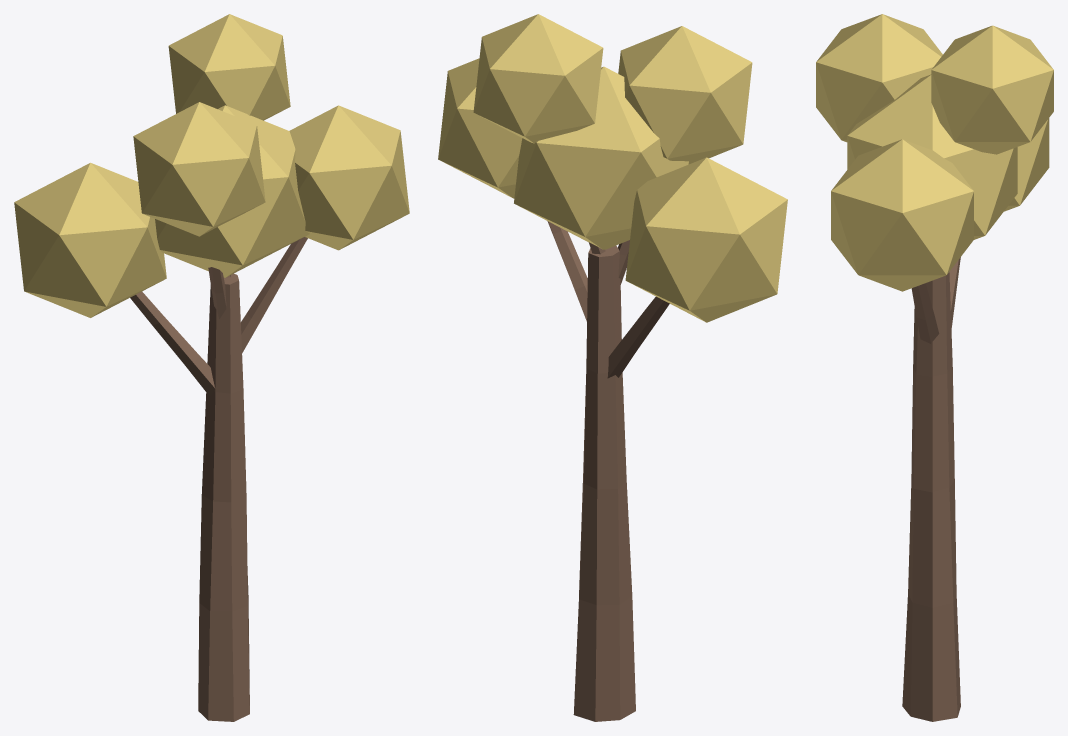
Rendered from 09_GoldenTree_Sacred.glb.
3 renders of one model, left to right at view 1: azimuth 30°, elevation 25°; view 2: azimuth 150°, elevation 25°; view 3: azimuth 270°, elevation 25°, orthographic. The views are drawn at different scales.
Visible parts, largest first — view 1: GoldenTree_Trunk, GoldenTree_Foliage1, GoldenTree_Foliage3, GoldenTree_Foliage2, GoldenTree_Foliage4, GoldenTree_FoliageTop, GoldenTree_Branch1, GoldenTree_Branch2, GoldenTree_Branch3; view 2: GoldenTree_Trunk, GoldenTree_Foliage1, GoldenTree_FoliageTop, GoldenTree_Foliage3, GoldenTree_Foliage4, GoldenTree_Foliage2, GoldenTree_Branch1, GoldenTree_Branch2; view 3: GoldenTree_Trunk, GoldenTree_Foliage2, GoldenTree_Foliage4, GoldenTree_Foliage3, GoldenTree_FoliageTop, GoldenTree_Foliage1, GoldenTree_Branch2, GoldenTree_Branch1.
Boxes of the visible parts, x1,y1,x2,y2 form: GoldenTree_Trunk: (198,273,249,721); GoldenTree_Foliage1: (14,162,166,317); GoldenTree_Foliage3: (133,102,265,236); GoldenTree_Foliage2: (289,105,409,250); GoldenTree_Foliage4: (168,14,290,120); GoldenTree_FoliageTop: (155,105,309,277); GoldenTree_Branch1: (130,291,214,396); GoldenTree_Branch2: (241,237,307,353); GoldenTree_Branch3: (208,267,226,319); GoldenTree_Trunk: (573,245,635,721); GoldenTree_Foliage1: (625,157,787,322); GoldenTree_FoliageTop: (514,66,688,249); GoldenTree_Foliage3: (618,26,752,164); GoldenTree_Foliage4: (473,14,603,143); GoldenTree_Foliage2: (438,58,522,198); GoldenTree_Branch1: (607,296,669,378); GoldenTree_Branch2: (547,221,587,321); GoldenTree_Trunk: (902,272,960,721); GoldenTree_Foliage2: (831,139,973,291); GoldenTree_Foliage4: (931,25,1053,154); GoldenTree_Foliage3: (816,14,942,142); GoldenTree_FoliageTop: (847,74,1017,239); GoldenTree_Foliage1: (1004,118,1049,211); GoldenTree_Branch2: (911,283,939,343); GoldenTree_Branch1: (949,257,960,328).
Size of the model in its own units: 2.08 by 3.86 by 1.19.
